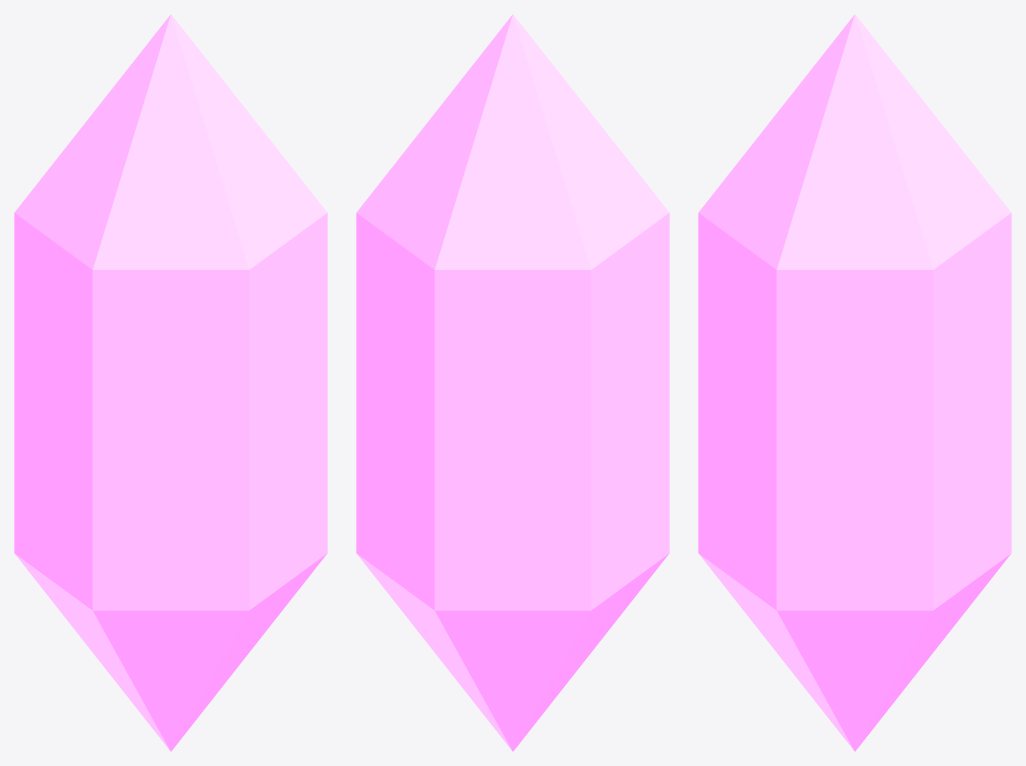
The model's file is crystal.glb.
3 views of the same model, side by side, from view 1: azimuth 30°, elevation 25°; view 2: azimuth 150°, elevation 25°; view 3: azimuth 270°, elevation 25° (orthographic).
Parts seen in each view (by area): view 1: Crystal; view 2: Crystal; view 3: Crystal.
Boxes of the visible parts, box(x1,y1,x2,y2) form: Crystal: box(14, 14, 327, 751); Crystal: box(356, 14, 669, 751); Crystal: box(698, 14, 1011, 751).
Size of the model in its own units: 0.866 by 2.6 by 1.
